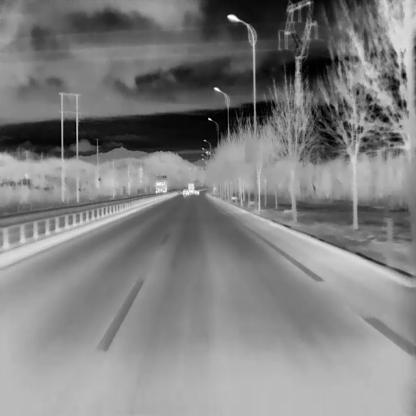car: (154, 179, 168, 193), (187, 182, 194, 193), (183, 188, 189, 195), (194, 189, 199, 195)
